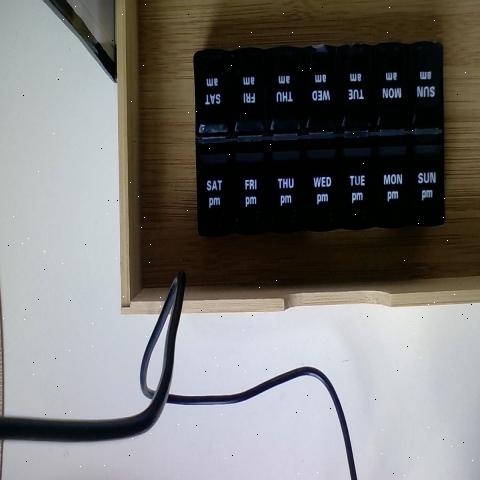FRI-am: (234, 57, 269, 144)
FRI-pm: (238, 177, 273, 262)
MON-am: (372, 49, 406, 140)
MON-pm: (373, 167, 410, 250)
SAT-am: (197, 55, 238, 144)
SAT-pm: (203, 170, 239, 261)
SUN-am: (410, 48, 444, 146)
SUN-pm: (409, 167, 444, 251)
THU-am: (269, 54, 302, 147), (340, 54, 371, 143)
THU-pm: (272, 164, 308, 260)
TUE-pm: (342, 166, 377, 249)
WED-am: (304, 53, 341, 140)
WED-pm: (308, 169, 344, 260)
